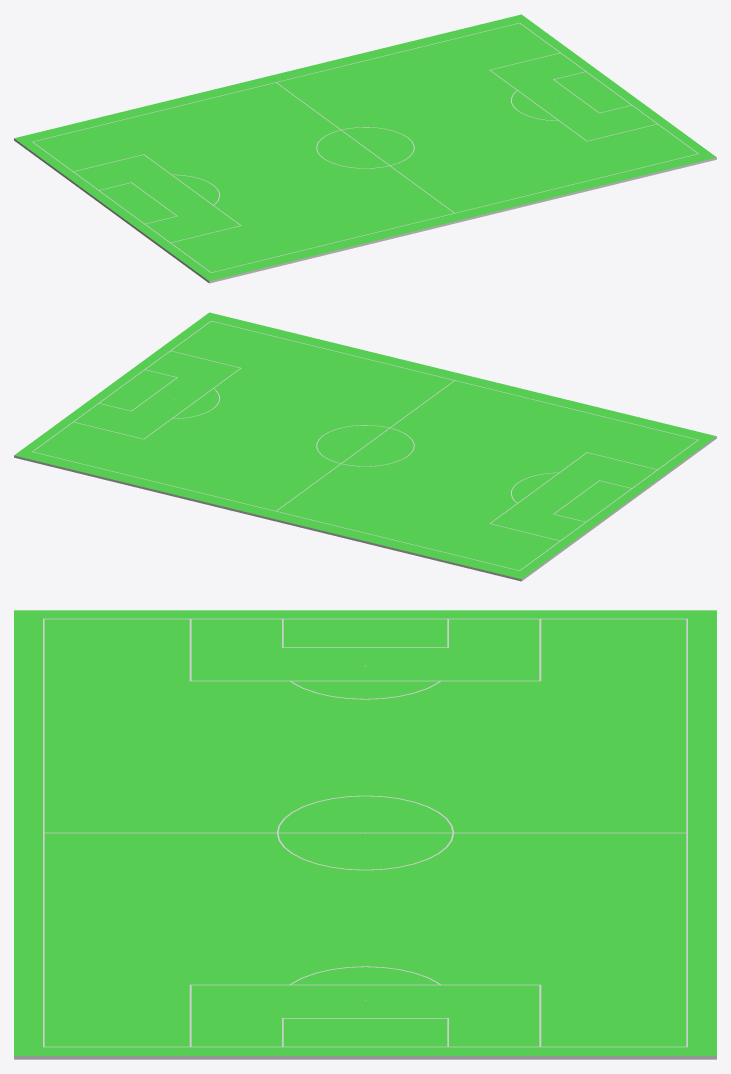
The model's file is FB_field.fbx.
The picture shows the model from 3 angles, top to bottom: view 1: azimuth 30°, elevation 25°; view 2: azimuth 150°, elevation 25°; view 3: azimuth 270°, elevation 25°; orthographic projection. The views are drawn at different scales.
Visible parts, largest first — view 1: FB_field; view 2: FB_field; view 3: FB_field.
Part boxes in pixels (<box>): FB_field: <box>14,14,716,283</box>; FB_field: <box>14,312,716,581</box>; FB_field: <box>14,610,716,1059</box>.
Bounding box in the file's own units: 2400 × 10 × 1600.
